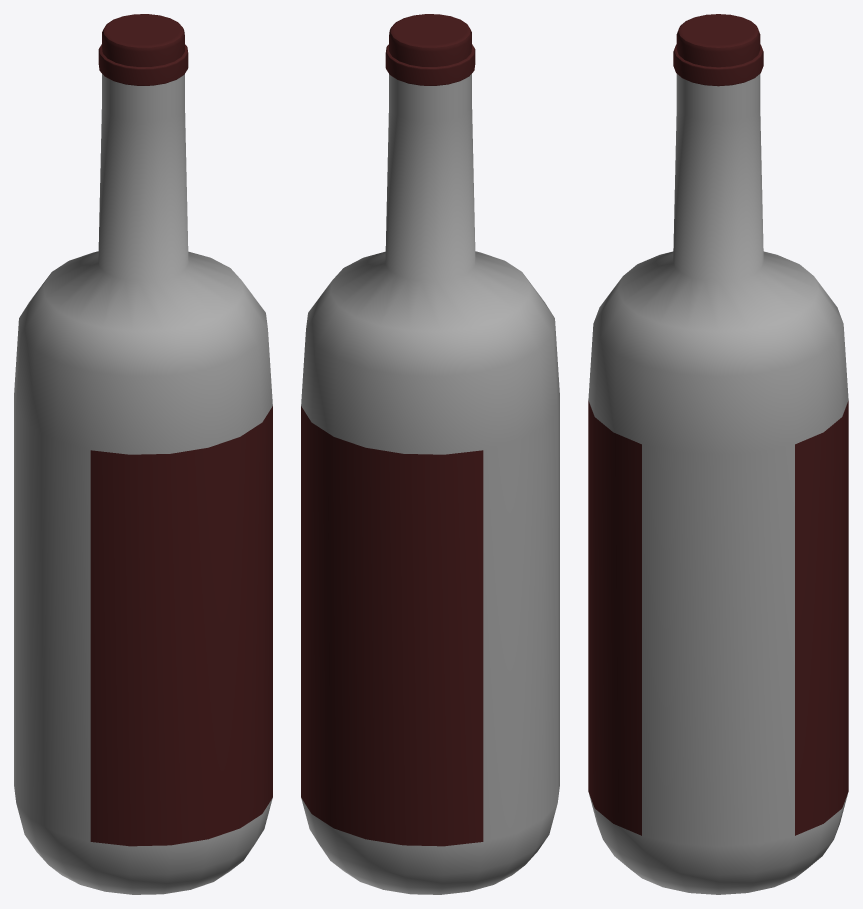
File: WineBottleShort.fbx
3 renders of one model, left to right at view 1: azimuth 30°, elevation 25°; view 2: azimuth 150°, elevation 25°; view 3: azimuth 270°, elevation 25°, orthographic.
Visible parts, largest first — view 1: pCylinder21; view 2: pCylinder21; view 3: pCylinder21.
Boxes of the visible parts, x1,y1,x2,y2 form: pCylinder21: (14,14,272,894); pCylinder21: (301,14,559,894); pCylinder21: (588,14,848,894).
Size of the model in its own units: 0.2449 by 0.8621 by 0.2449.
